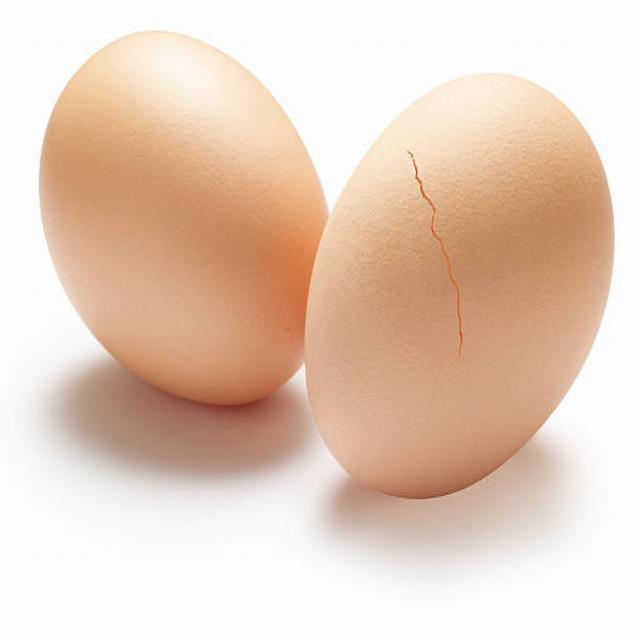biodegradable: (304, 67, 625, 502), (30, 25, 332, 432)
